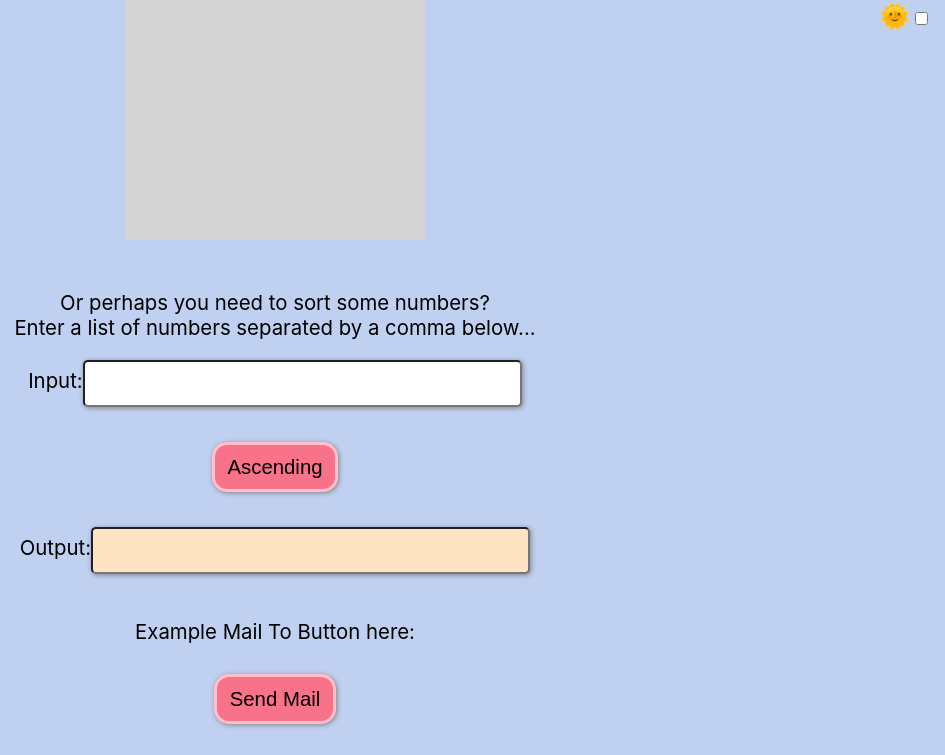
As a user, I should be able to interact with all interactables in the home page › Makes sure the number sort properly in descending order
(page scrolled)
Type "1,4,2,5" into the field with class "Details-Form-Input" next to "Input:" at (303,385), box [83,361,522,408]
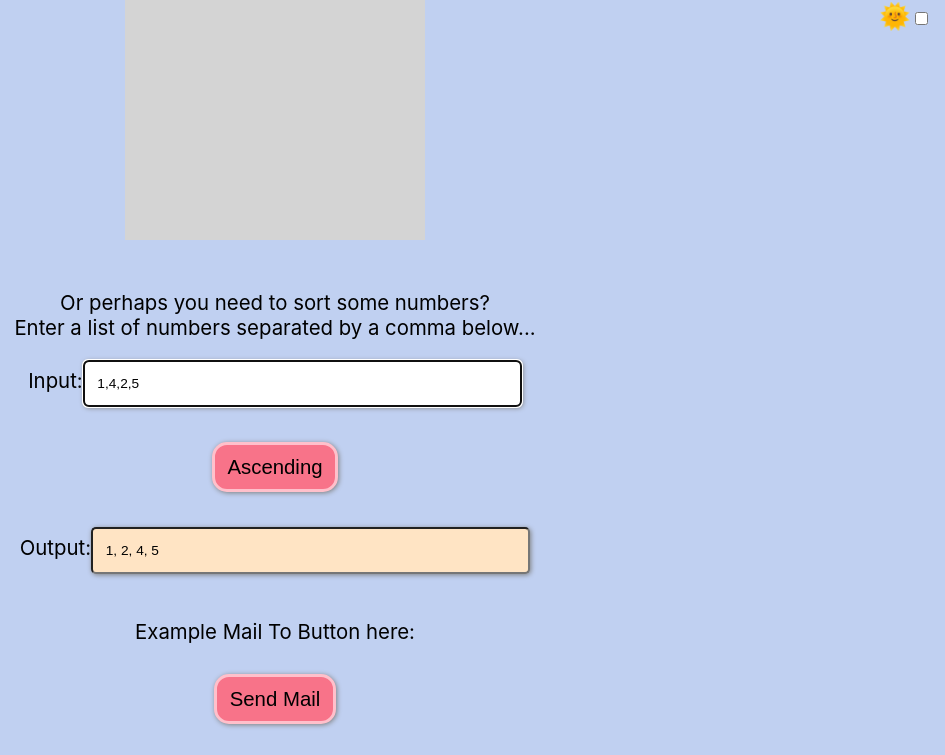
Click the button "Ascending" at (275,467), box [212,442,338,492]
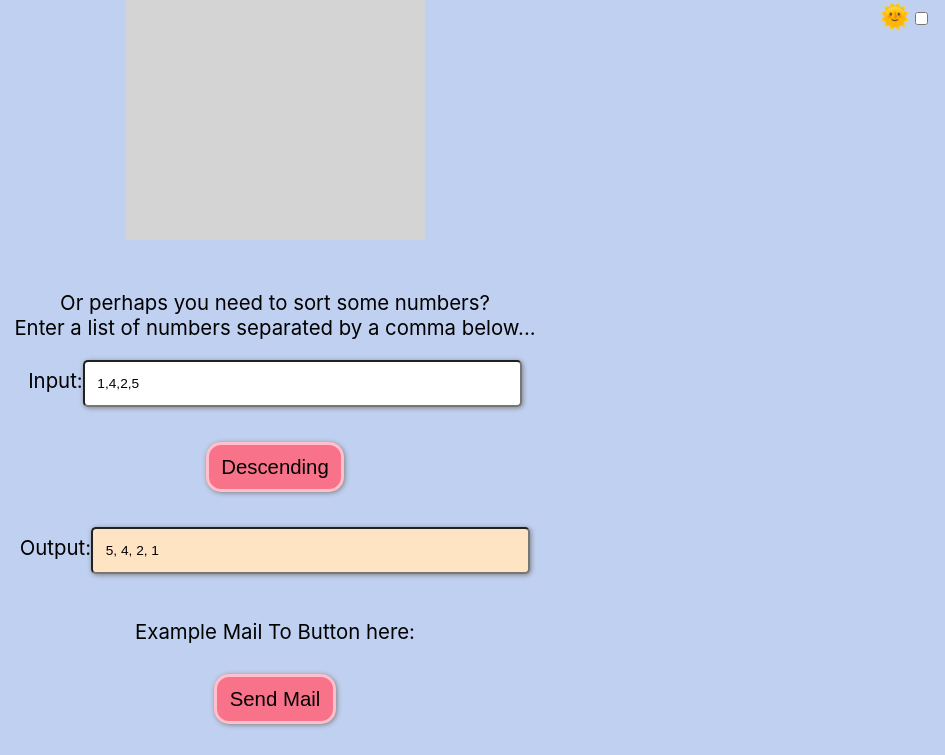
Expected: the field with class "Details-Form-Input" next to "Output:" holds "5, 4, 2, 1", [91,527,530,574]
